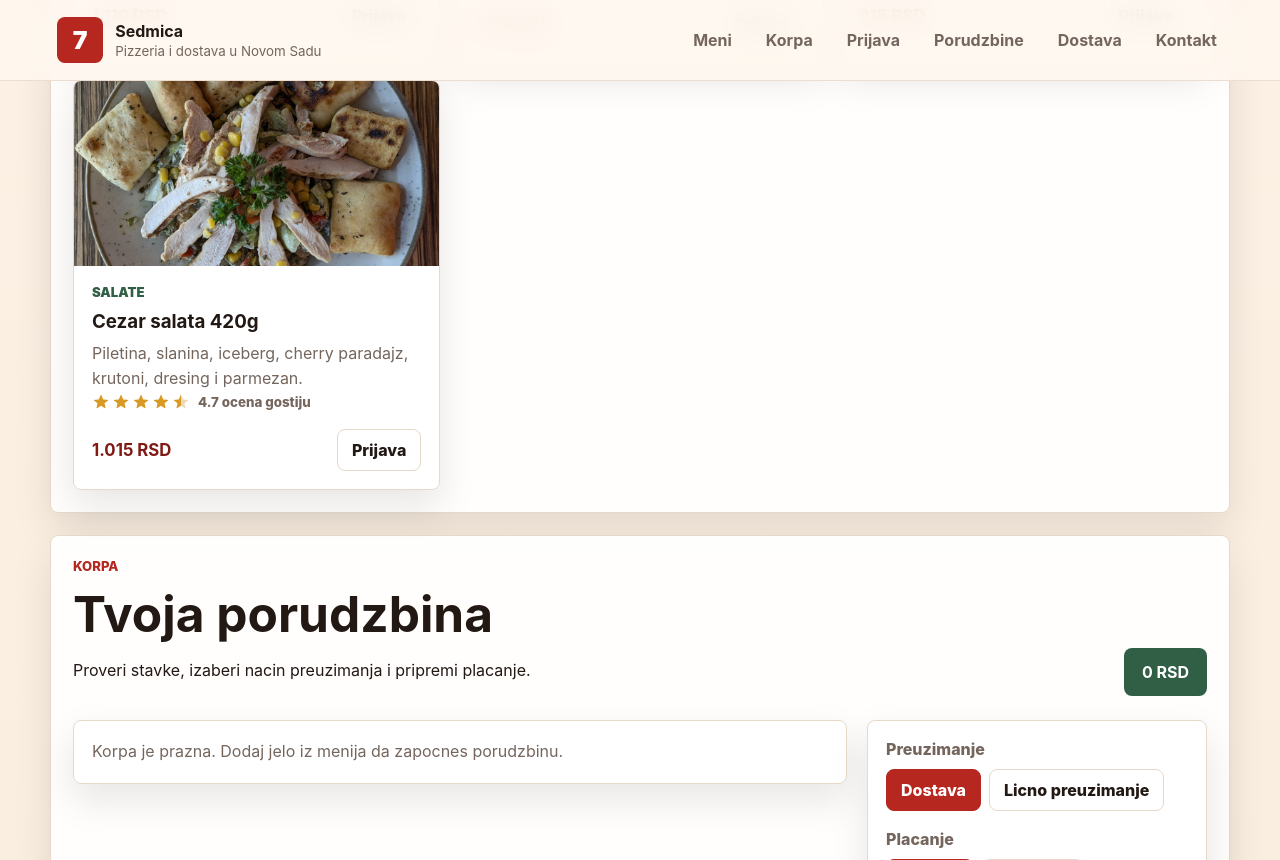
Scenario: requires login before adding product to cart
(page scrolled)
Click the button "Prijava". click: (379, 450)
box: top-left (337, 429), bottom-right (421, 471)
(page scrolled)
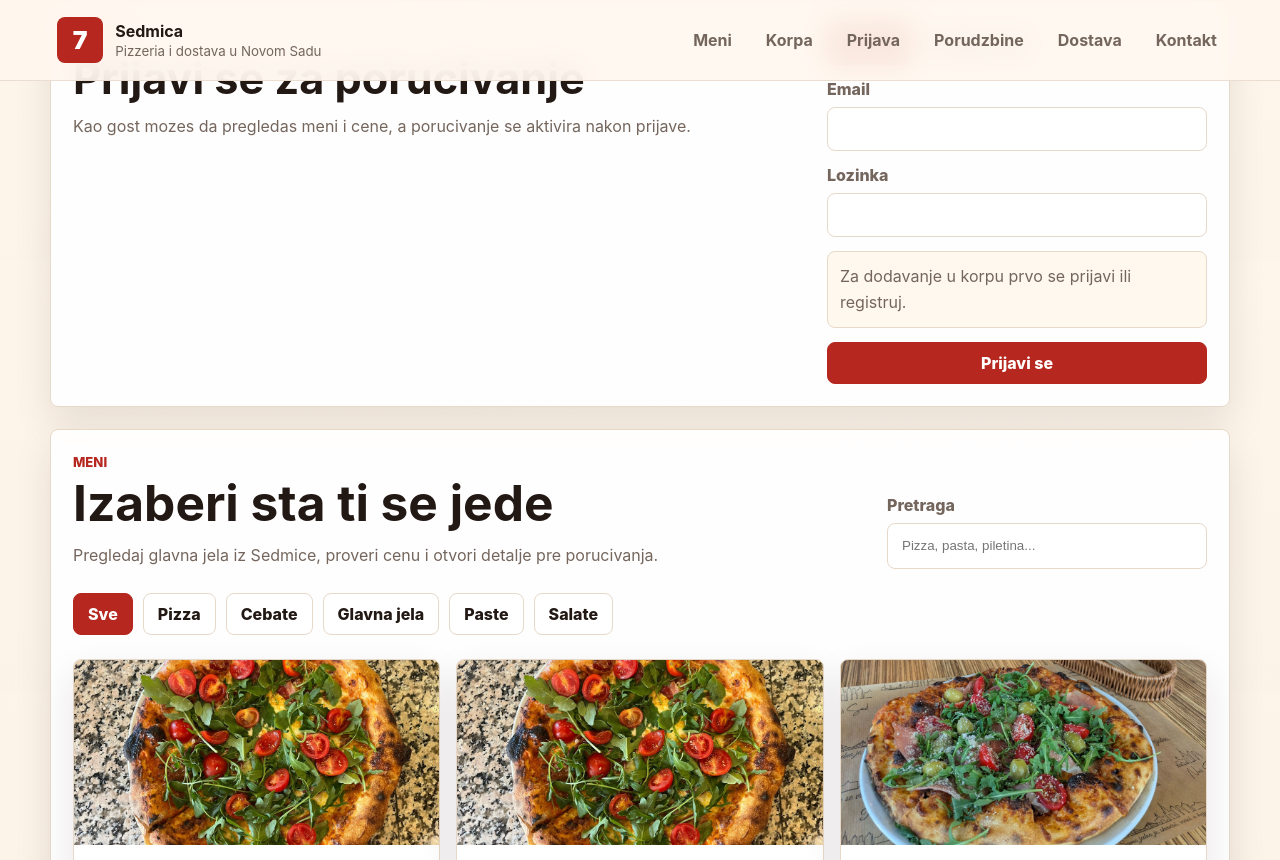
Now the text "Za dodavanje u korpu prvo se prijavi ili registruj." is shown, box top-left (827, 251), bottom-right (1207, 328)
